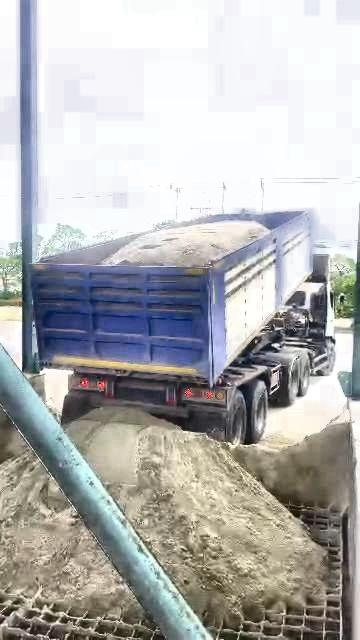sand: (69, 410, 325, 625), (0, 453, 140, 617), (232, 411, 353, 511), (103, 221, 269, 266), (0, 407, 26, 464)
